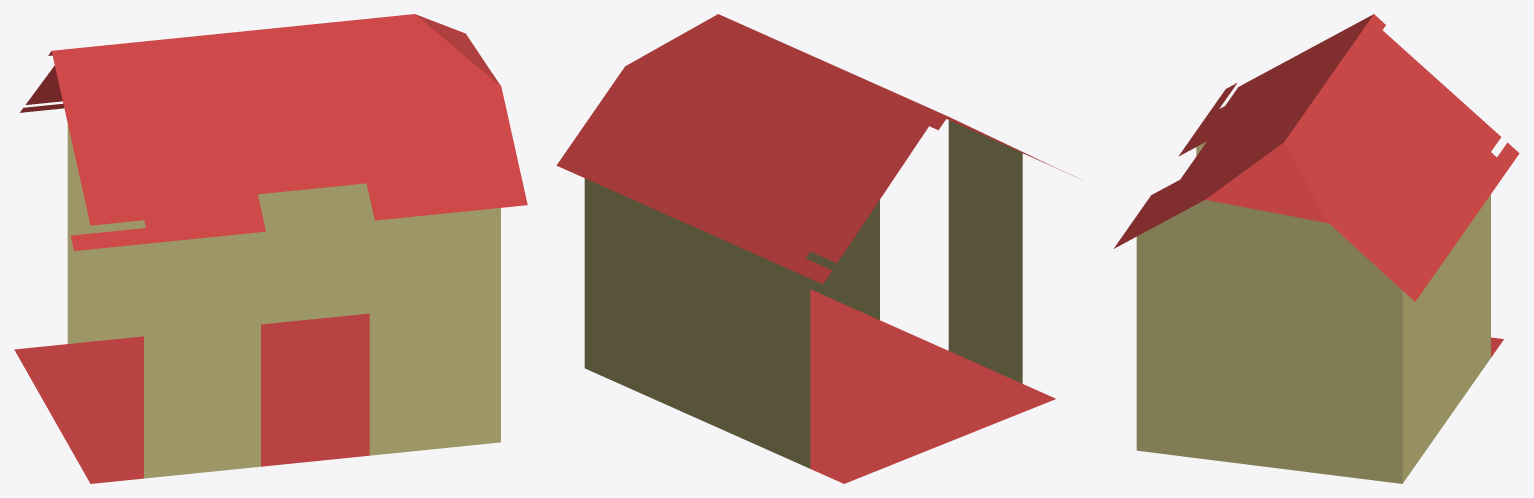
3 views of the same model, side by side, from view 1: azimuth 30°, elevation 25°; view 2: azimuth 150°, elevation 25°; view 3: azimuth 270°, elevation 25° (orthographic). The views are drawn at different scales.
Bounding box in the file's own units: 18.66 × 16.18 × 13.57.
